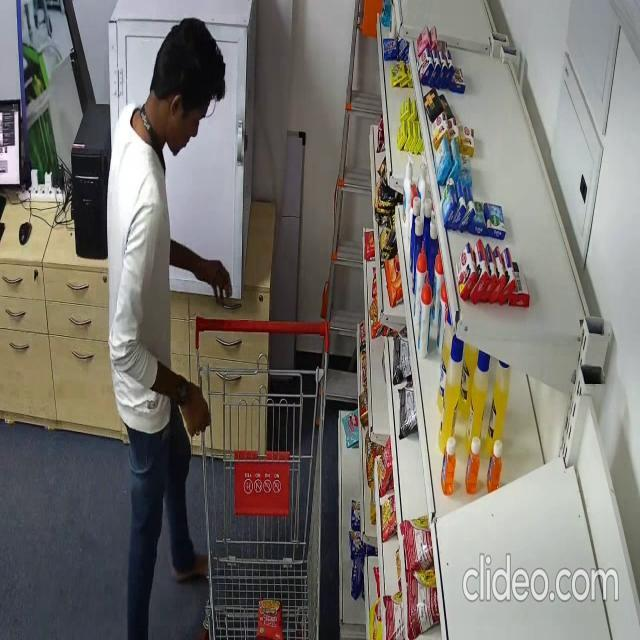normal: (104, 18, 233, 640)
